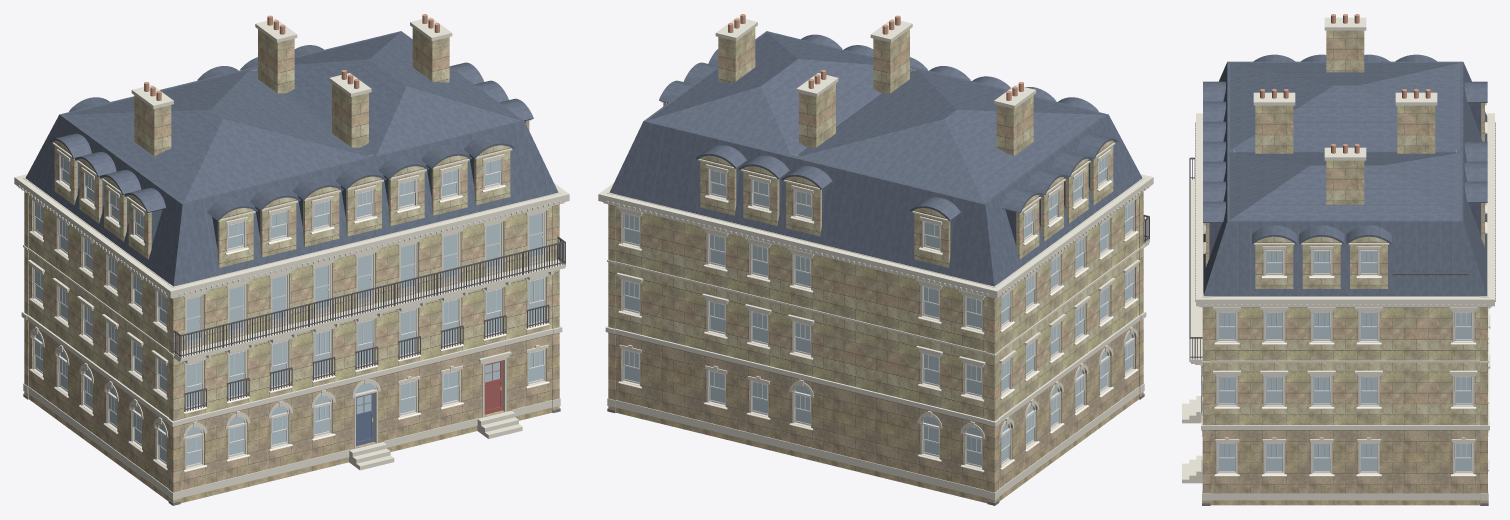
Rendered from building_assembled.glb.
3 renders of one model, left to right at view 1: azimuth 30°, elevation 25°; view 2: azimuth 150°, elevation 25°; view 3: azimuth 270°, elevation 25°, orthographic. The views are drawn at different scales.
Parts seen in each view (by area): view 1: building_zinc, building_ashlar, building_trim, building_rustic, building_glass, building_frame, building_iron, building_sash, building_door, building_door_b, building_pot; view 2: building_zinc, building_ashlar, building_rustic, building_trim, building_glass, building_sash, building_frame, building_pot; view 3: building_zinc, building_ashlar, building_trim, building_rustic, building_glass, building_sash, building_frame, building_iron, building_pot.
Boxes of the visible parts, x1=… form: building_zinc: x1=25, y1=31, x2=558, y2=286; building_ashlar: x1=24, y1=27, x2=559, y2=421; building_trim: x1=14, y1=17, x2=569, y2=500; building_rustic: x1=24, y1=319, x2=559, y2=503; building_glass: x1=35, y1=156, x2=543, y2=465; building_frame: x1=33, y1=154, x2=546, y2=469; building_iron: x1=173, y1=236, x2=565, y2=411; building_sash: x1=34, y1=155, x2=544, y2=467; building_door: x1=356, y1=393, x2=374, y2=445; building_door_b: x1=484, y1=360, x2=502, y2=414; building_pot: x1=144, y1=14, x2=439, y2=100; building_zinc: x1=609, y1=31, x2=1142, y2=286; building_ashlar: x1=608, y1=27, x2=1143, y2=421; building_rustic: x1=608, y1=319, x2=1143, y2=503; building_trim: x1=598, y1=17, x2=1153, y2=500; building_glass: x1=624, y1=156, x2=1132, y2=465; building_sash: x1=623, y1=155, x2=1133, y2=467; building_frame: x1=621, y1=154, x2=1134, y2=469; building_pot: x1=728, y1=14, x2=1023, y2=100; building_zinc: x1=1203, y1=54, x2=1487, y2=296; building_ashlar: x1=1202, y1=30, x2=1487, y2=425; building_trim: x1=1182, y1=17, x2=1495, y2=500; building_rustic: x1=1202, y1=430, x2=1487, y2=505; building_glass: x1=1218, y1=251, x2=1471, y2=470; building_sash: x1=1218, y1=250, x2=1472, y2=472; building_frame: x1=1216, y1=250, x2=1474, y2=473; building_iron: x1=1189, y1=157, x2=1468, y2=413; building_pot: x1=1260, y1=14, x2=1430, y2=153.
Bounding box in the file's own units: 18.72 × 15.64 × 13.26.
Materials: 18 (4 with a texture image).
